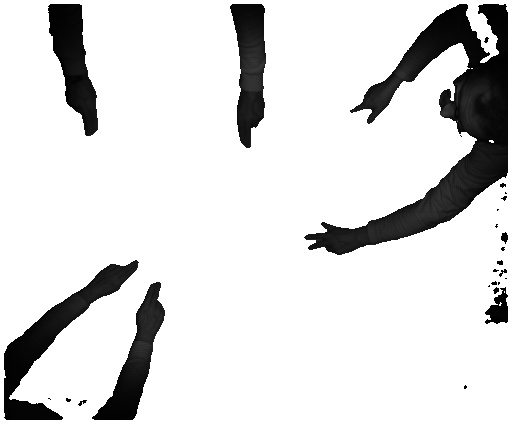hand: (87, 256, 141, 305), (344, 82, 394, 127), (232, 94, 271, 151), (64, 79, 103, 135), (304, 216, 358, 255), (135, 281, 167, 341)
